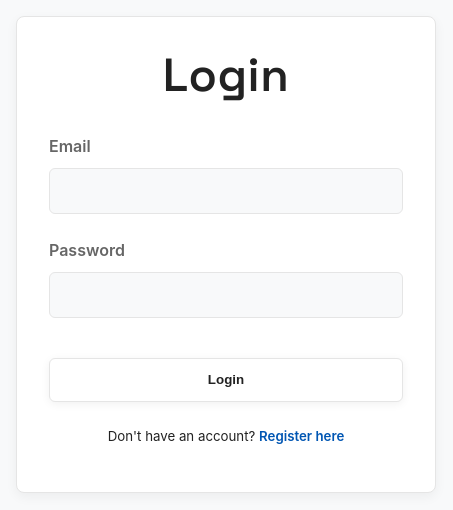
Test: UserLoginPage › should disable button on submit
The width and height of the screenshot is (453, 510).
Type "test@example.com" into the field labelled "Email" at (226, 191), box left=49, top=168, right=403, bottom=214
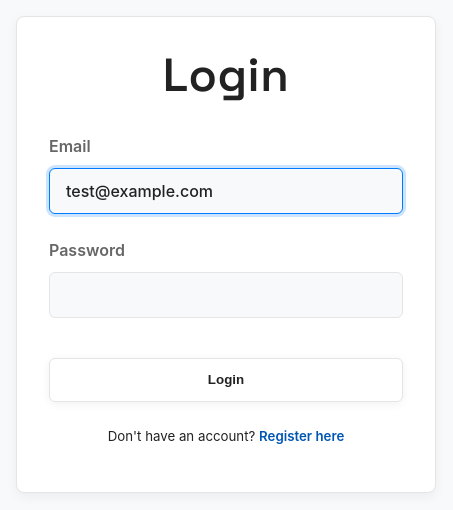
Type "password123" into the password field labelled "Password" at (226, 294), box left=49, top=272, right=403, bottom=318
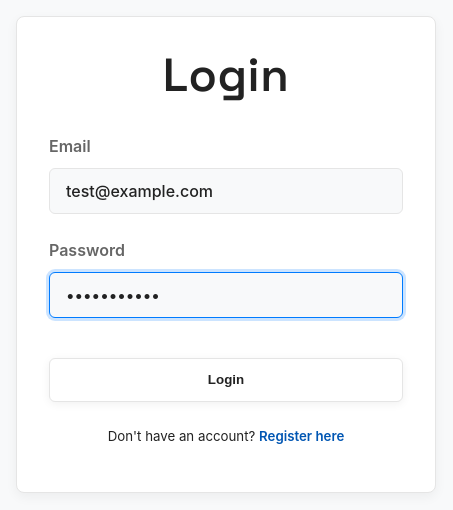
Click the button "Login" at (226, 380), box left=49, top=358, right=403, bottom=402
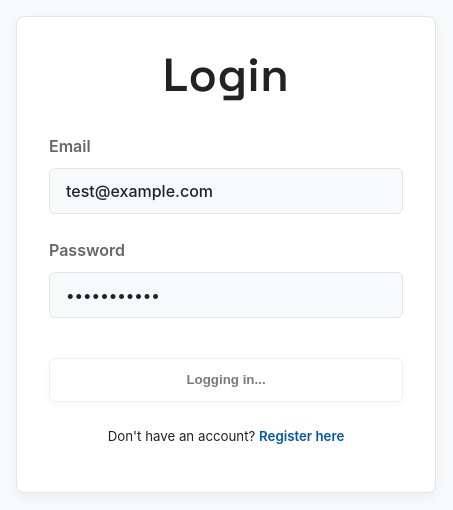
Now the button named "login" is disabled, box left=49, top=358, right=403, bottom=402
Now the button named "login" reads "Logging in...", box left=49, top=358, right=403, bottom=402
